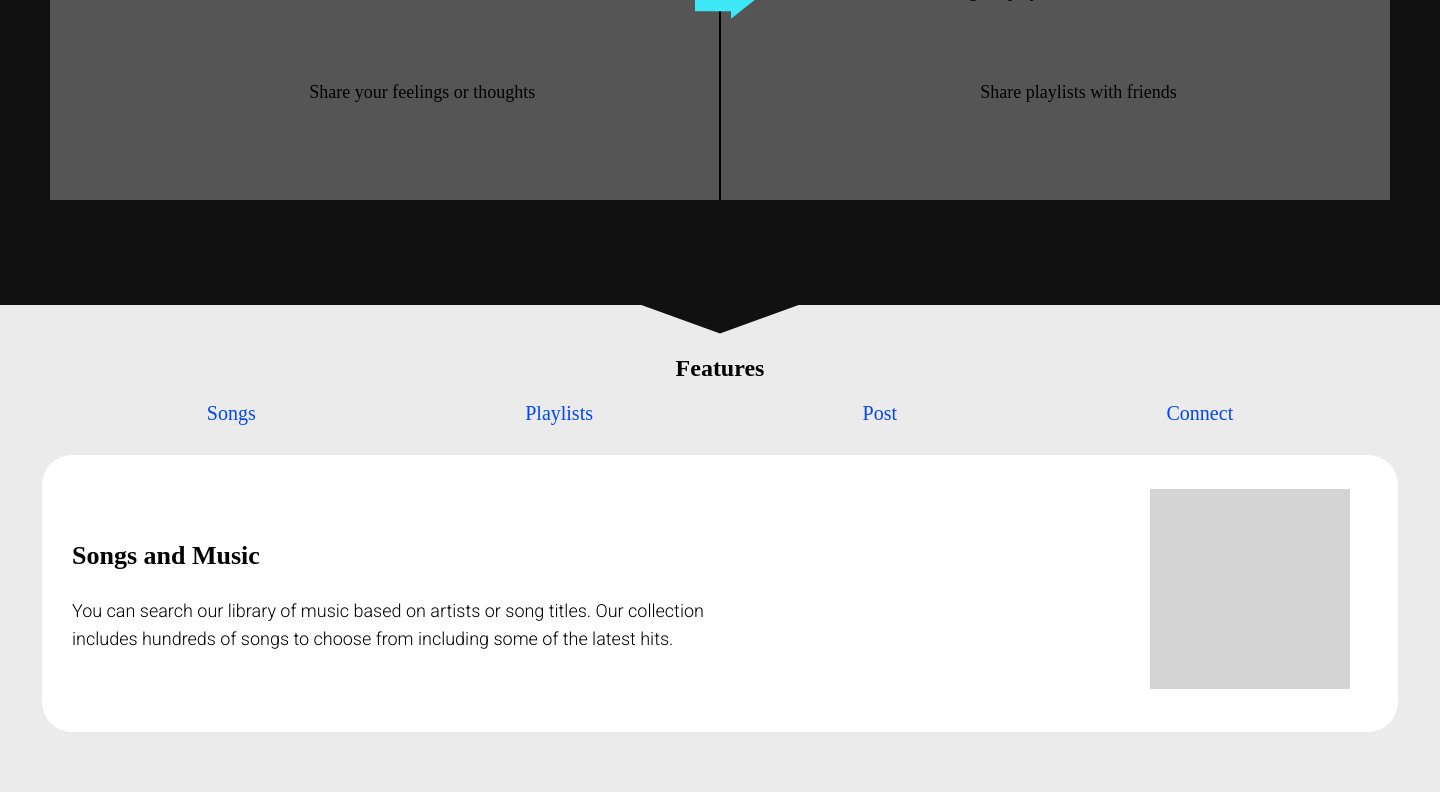
Test: Home page › It should change features when list items are clicked
(page scrolled)
Check: the heading "Songs and Music" is shown, box 72,541 -> 260,570
Check: the text "You can search our library of music" is shown, box 72,600 -> 704,649
What coordinates should you click on to do the following:
click the list item "Playlists"
I would click on:
 (559, 413)
Its box is 525,402 -> 593,425.
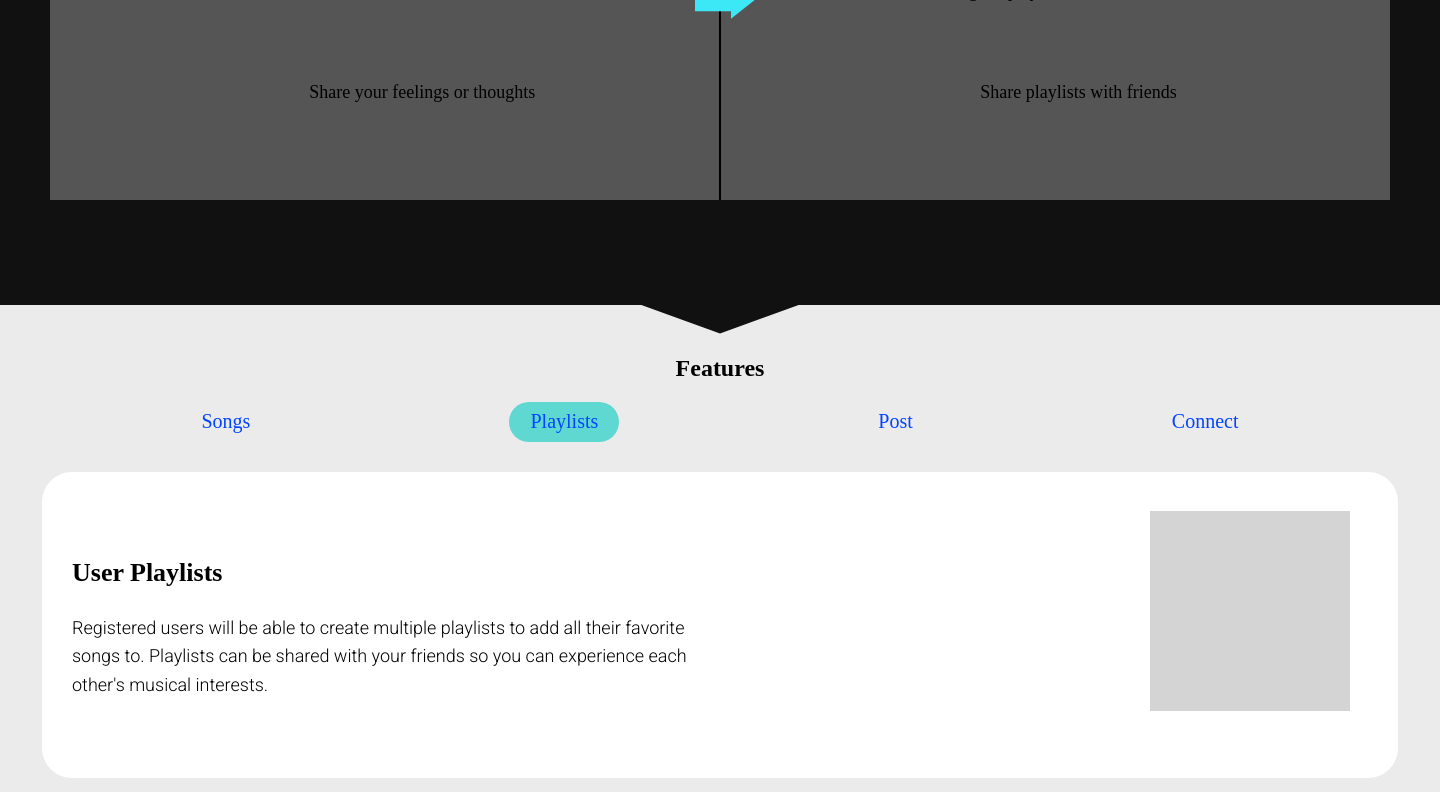
Check: the heading "User Playlists" is shown, box 72,558 -> 222,587
Check: the text "Registered users will be able to create multiple" is shown, box 72,617 -> 687,695
Check: the heading "Songs and Music" is gone
What coordinates should you click on to do the following:
click the list item "Post"
I would click on:
 (896, 422)
Its box is 878,410 -> 913,433.
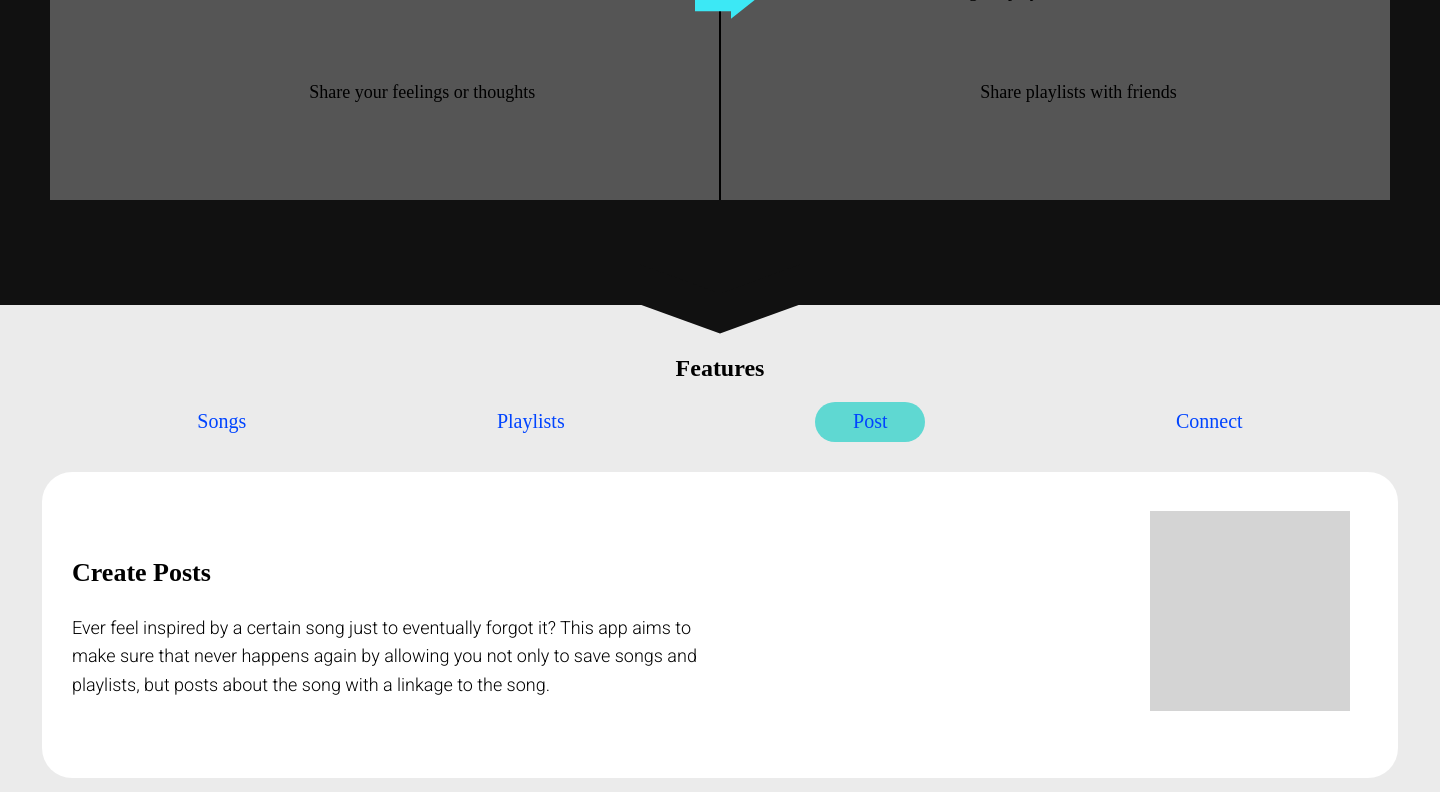
Check: the heading "Create Posts" is shown, box 72,558 -> 211,587
Check: the text "Ever feel inspired by a certain song" is shown, box 72,617 -> 697,695
Check: the heading "User Playlists" is gone
What coordinates should you click on to do the following:
click the list item "Connect"
I would click on:
 (1209, 422)
Its box is 1176,410 -> 1243,433.
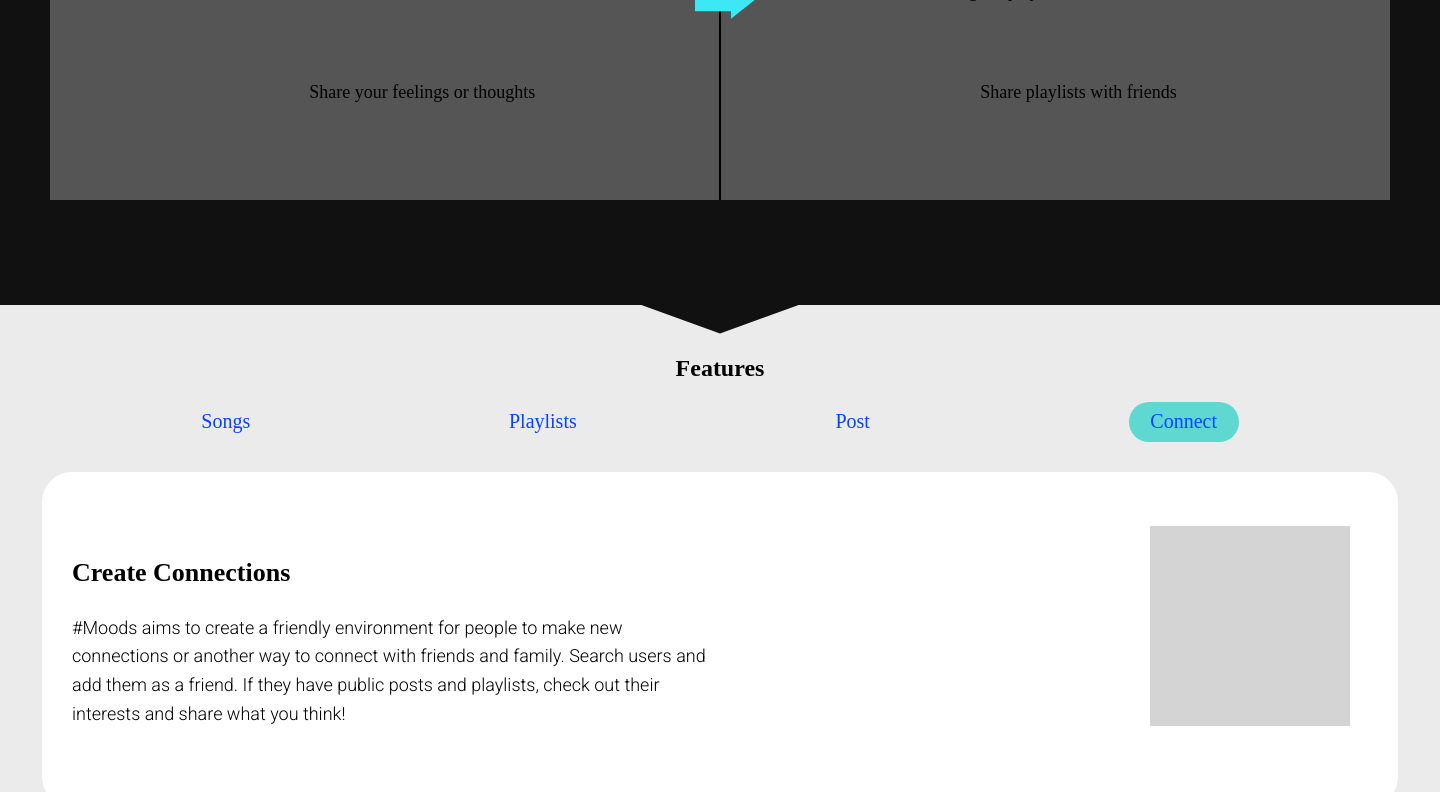
Check: the heading "Create Connections" is shown, box 72,558 -> 290,587
Check: the text "#Moods aims to create" is shown, box 72,617 -> 706,724
Check: the heading "Create Posts" is gone
